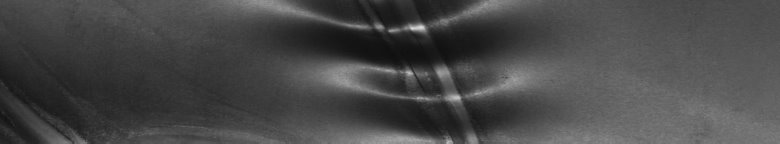ke: (4, 4, 524, 136)
